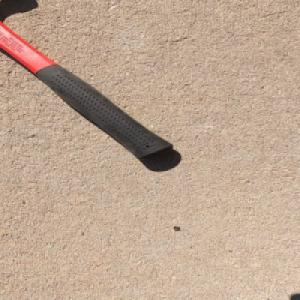Hammer: (0, 0, 177, 163)
